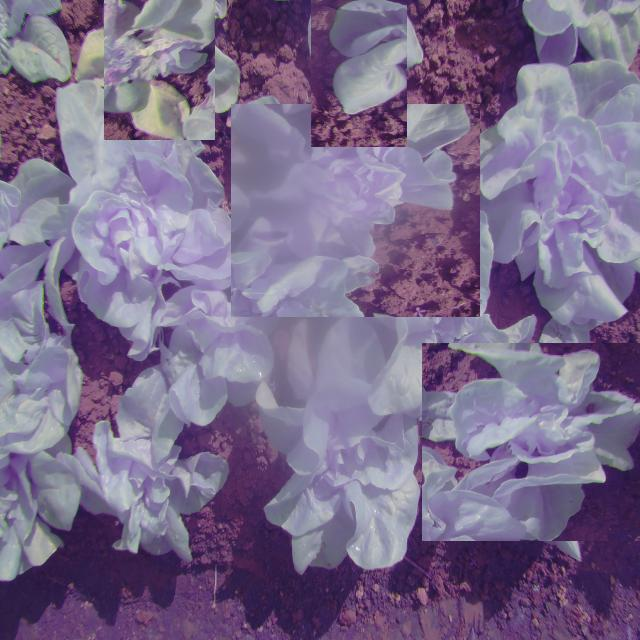vege: (239, 95, 471, 326), (431, 334, 640, 550), (84, 373, 222, 571), (285, 0, 433, 121), (90, 0, 230, 126)
